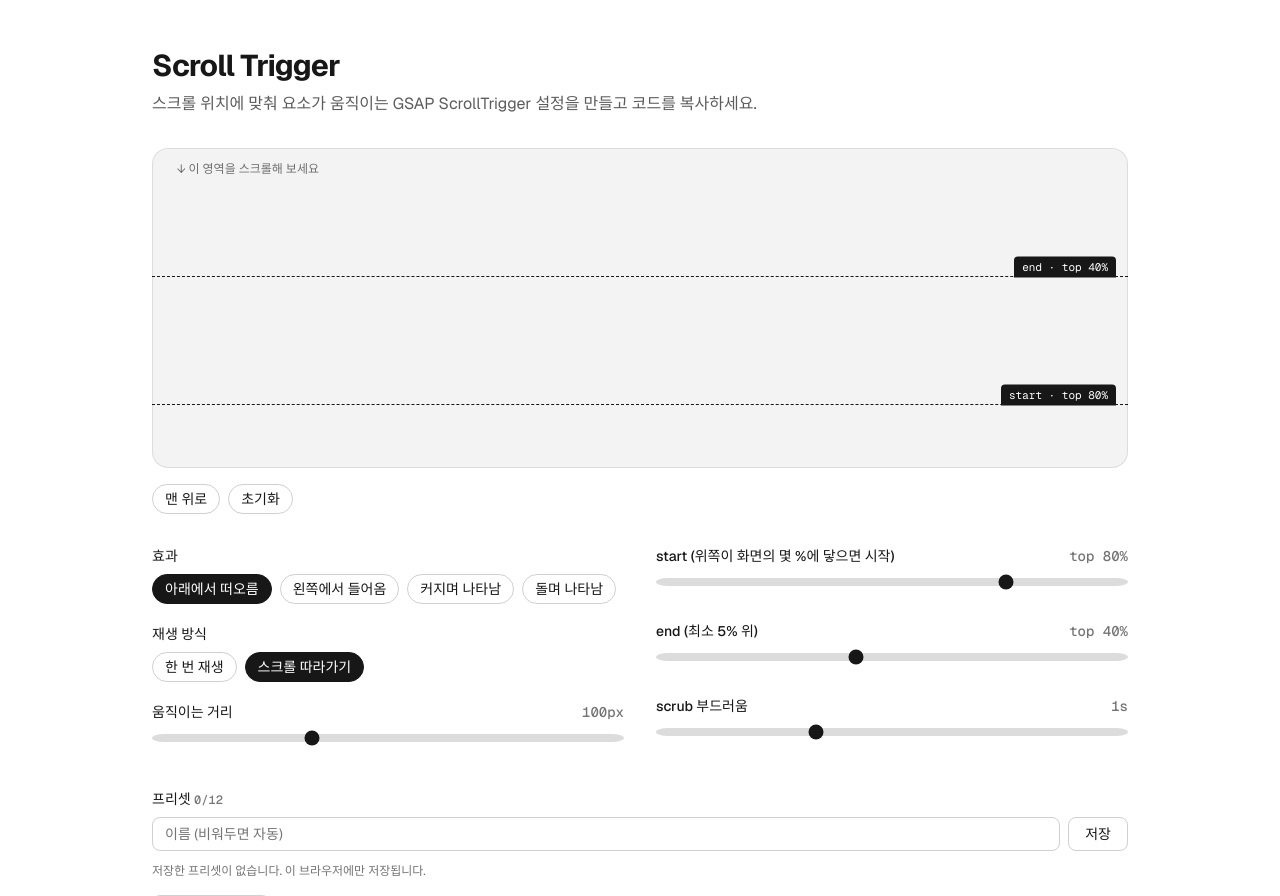
ScrollTriggerPlayground › start를 끝 지점 아래로 내리면 end가 따라 내려간다
Set the slider labelled "start (위쪽이 화면의 몇 %에 닿으면 시작) top 80%" to "30" at coordinates (721, 582), box [656,570,1128,594]
(page scrolled)
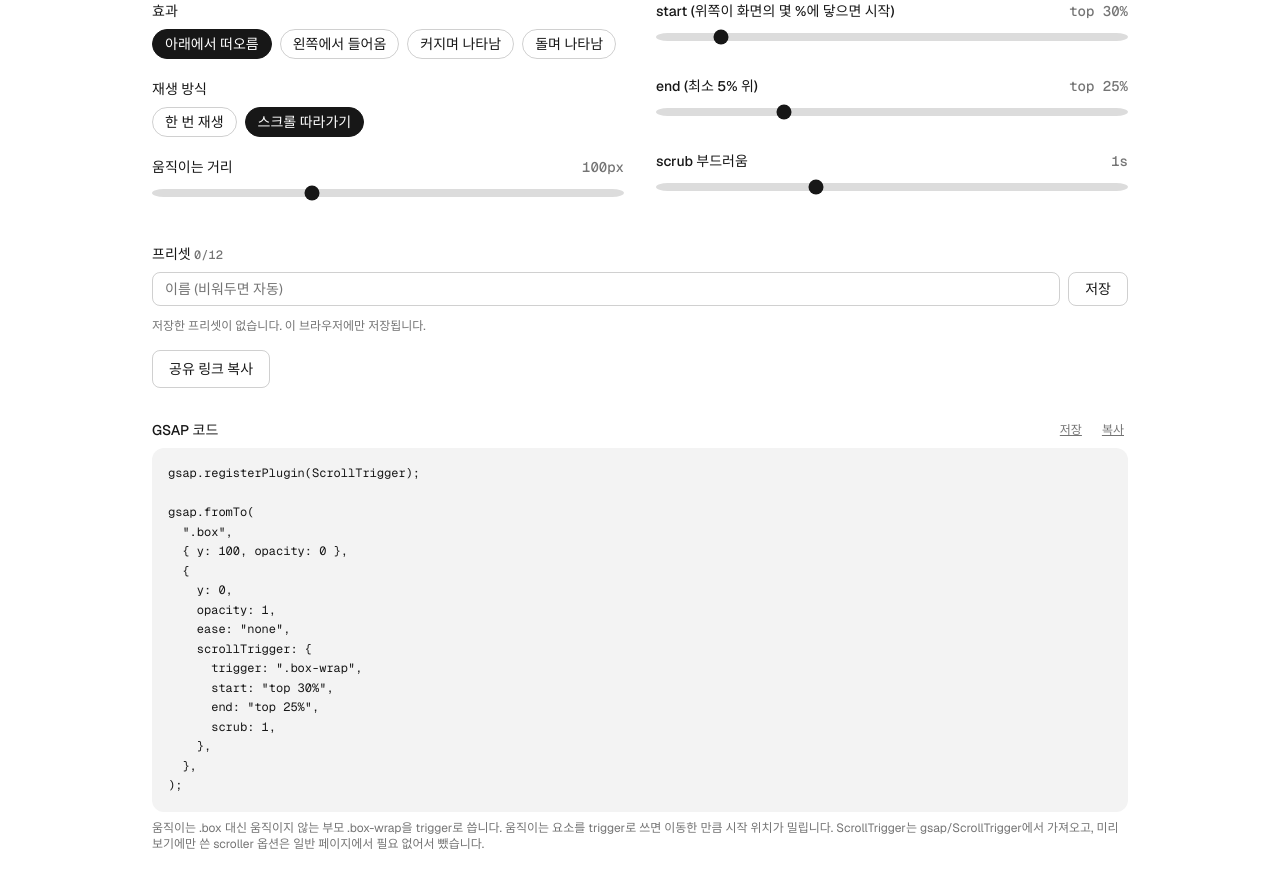
Expected: the text named "GSAP 코드" shows "start: \"top 30%\"", [168,465,420,793]
Expected: the text named "GSAP 코드" shows "end: \"top 25%\"", [168,465,420,793]
